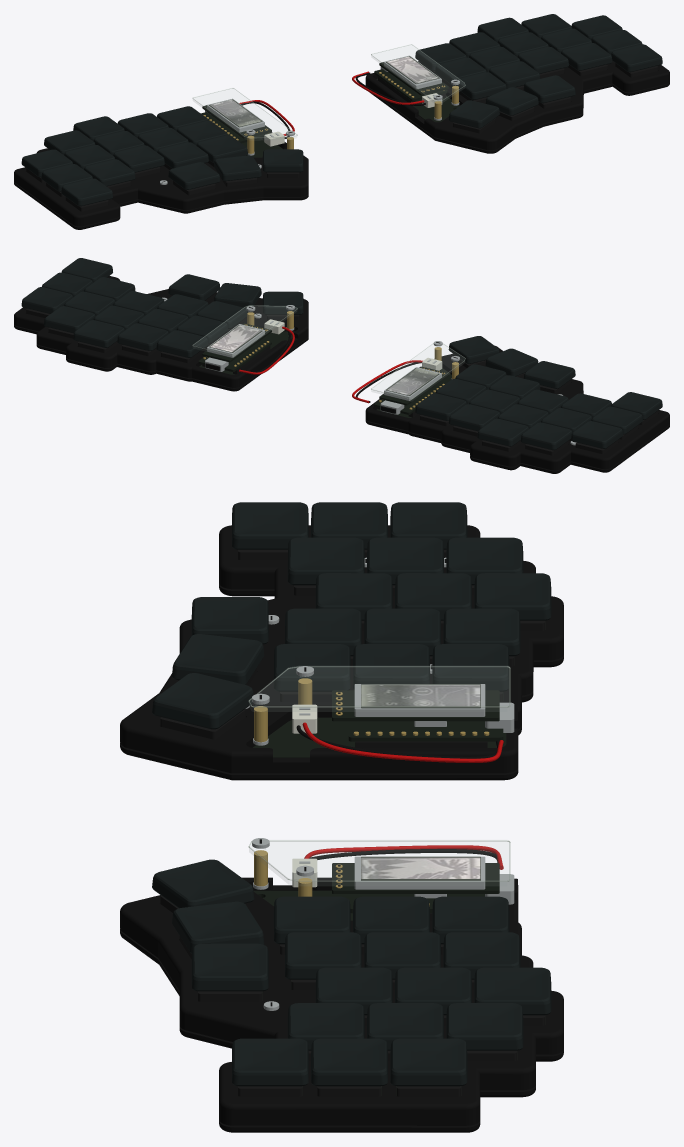
3 renders of one model, top to bottom at view 1: azimuth 30°, elevation 25°; view 2: azimuth 150°, elevation 25°; view 3: azimuth 270°, elevation 25°, orthographic. The views are drawn at different scales.
Parts seen in each view (by area): view 1: L_Case_top_original_v1, R_Case_top_original_v1, L_Case_bottom_original_v1, R_Case_bottom_original_v1, L_SW14_Keycap, L_SW19_Keycap, R_SW14_Keycap, R_SW21_Keycap, L_SW20_Keycap, R_SW19_Keycap, R_SW20_Keycap, L_SW21_Keycap (+36 smaller); view 2: L_Case_top_original_v1, R_Case_top_original_v1, L_Case_bottom_original_v1, R_Case_bottom_original_v1, R_SW6_Keycap, L_SW2_Keycap, L_SW3_Keycap, R_SW4_Keycap, L_SW4_Keycap, L_SW19_Keycap, L_SW20_Keycap, L_SW21_Keycap (+36 smaller); view 3: R_Case_top_original_v1, L_Case_top_original_v1, L_SW21_Keycap, L_Case_bottom_original_v1, R_SW2_Keycap, R_SW19_Keycap, R_SW8_Keycap, R_SW14_Keycap, R_SW21_Keycap, R_Case_bottom_original_v1, R_SW3_Keycap, L_SW14_Keycap (+39 smaller).
Part boxes in pixels (x1,y1,x2,y2): L_Case_top_original_v1: (14, 132, 308, 226); R_Case_top_original_v1: (365, 61, 669, 150); L_Case_bottom_original_v1: (14, 182, 308, 229); R_Case_bottom_original_v1: (369, 82, 669, 153); L_SW14_Keycap: (61, 178, 112, 206); L_SW19_Keycap: (168, 162, 220, 189); R_SW14_Keycap: (611, 44, 662, 72); R_SW21_Keycap: (448, 100, 499, 128); L_SW20_Keycap: (214, 155, 261, 181); R_SW19_Keycap: (523, 75, 575, 103); R_SW20_Keycap: (485, 87, 538, 115); L_SW21_Keycap: (262, 149, 303, 172); L_Case_top_original_v1: (365, 346, 669, 470); R_Case_top_original_v1: (14, 276, 308, 387); L_Case_bottom_original_v1: (365, 419, 669, 473); R_Case_bottom_original_v1: (14, 324, 308, 391); R_SW6_Keycap: (156, 330, 208, 357); L_SW2_Keycap: (571, 421, 622, 448); L_SW3_Keycap: (521, 422, 572, 450); R_SW4_Keycap: (73, 320, 124, 347); L_SW4_Keycap: (477, 418, 528, 446); L_SW19_Keycap: (523, 361, 575, 388); L_SW20_Keycap: (485, 348, 538, 376); L_SW21_Keycap: (448, 336, 499, 363); R_Case_top_original_v1: (120, 877, 563, 1125); L_Case_top_original_v1: (120, 525, 563, 773); L_SW21_Keycap: (152, 673, 253, 729); L_Case_bottom_original_v1: (120, 583, 563, 780); R_SW2_Keycap: (390, 1038, 467, 1086); R_SW19_Keycap: (191, 943, 268, 991); R_SW8_Keycap: (311, 1038, 387, 1086); R_SW14_Keycap: (232, 1038, 308, 1086); R_SW21_Keycap: (152, 859, 254, 908); R_Case_bottom_original_v1: (120, 929, 563, 1132); R_SW3_Keycap: (446, 1003, 523, 1050); L_SW14_Keycap: (232, 502, 308, 549).
Size of the model in its own units: 0.2953 by 0.0193 by 0.0952.
14 materials, 2 textured.
